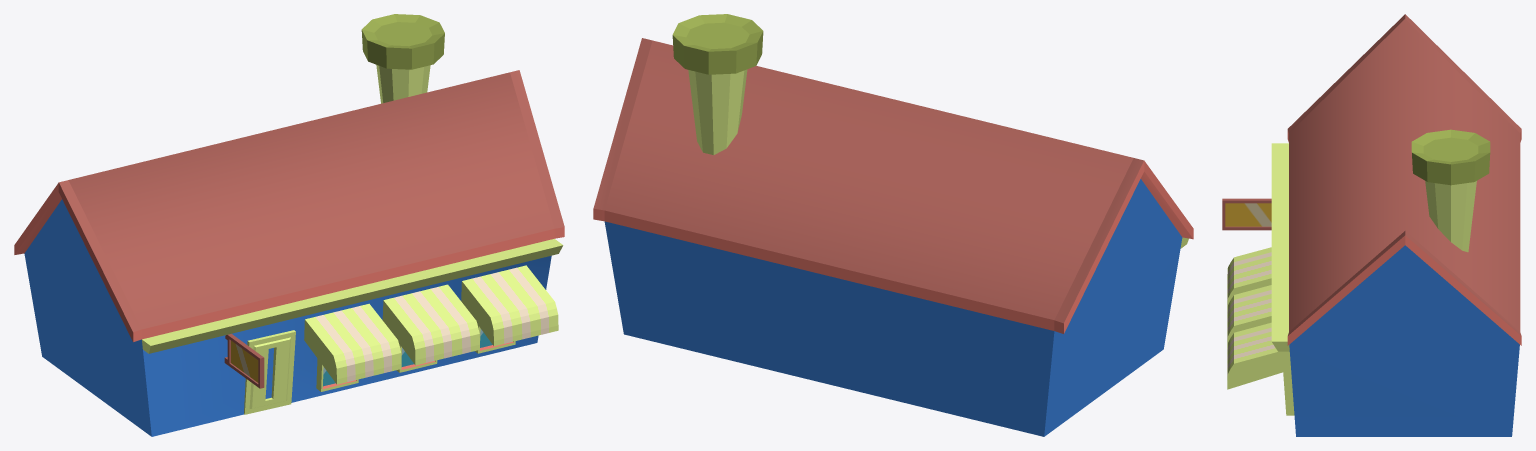
The model's file is House1.FBX.
The picture shows the model from 3 angles, left to right: view 1: azimuth 30°, elevation 25°; view 2: azimuth 150°, elevation 25°; view 3: azimuth 270°, elevation 25°; orthographic projection. The views are drawn at different scales.
Visible parts, largest first — view 1: House1; view 2: House1; view 3: House1.
Part boxes in pixels (<box>): House1: <box>14,14,564,436</box>; House1: <box>593,14,1193,436</box>; House1: <box>1222,14,1521,436</box>.
Size of the model in its own units: 490 by 272 by 280.
